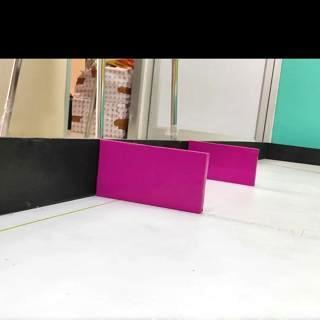xparking: (98, 140, 208, 213), (209, 143, 258, 186)
